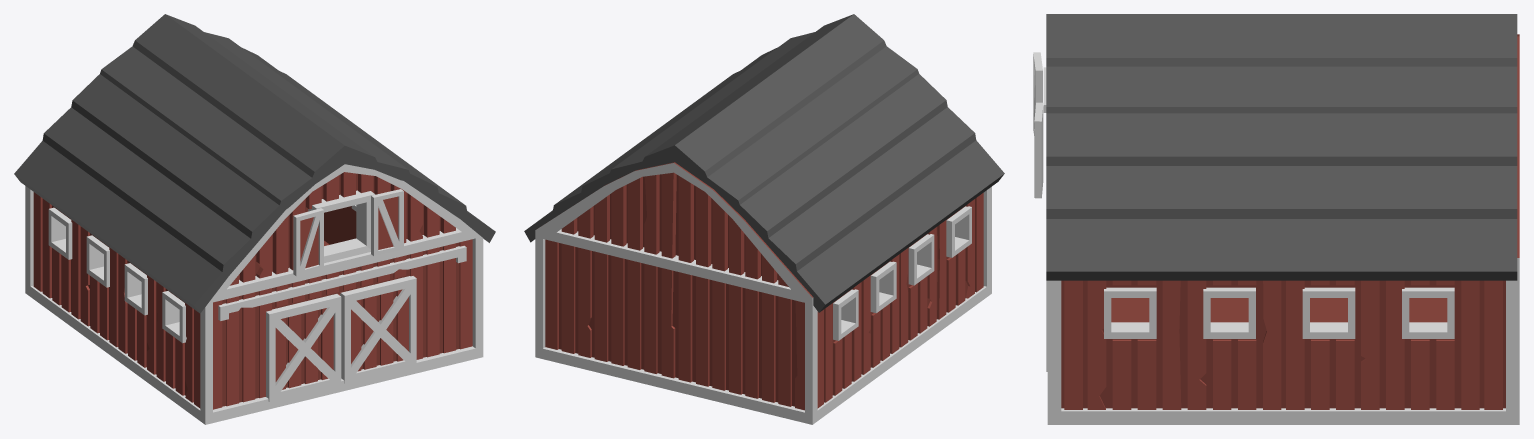
File: Barn.glb
3 views of the same model, side by side, from view 1: azimuth 30°, elevation 25°; view 2: azimuth 150°, elevation 25°; view 3: azimuth 270°, elevation 25° (orthographic). The views are drawn at different scales.
Parts seen in each view (by area): view 1: Barn, Barn_Door, Barn_Door2, Barn_Window, Barn_Window2; view 2: Barn; view 3: Barn, Barn_Window, Barn_Window2.
Boxes of the visible parts, <box> form: Barn: <box>14,14,495,424</box>; Barn_Door: <box>340,276,416,383</box>; Barn_Door2: <box>266,294,341,401</box>; Barn_Window: <box>371,189,403,256</box>; Barn_Window2: <box>293,208,323,276</box>; Barn: <box>524,14,1004,424</box>; Barn: <box>1043,14,1519,424</box>; Barn_Window: <box>1034,102,1043,198</box>; Barn_Window2: <box>1033,52,1042,135</box>.
Bounding box in the file's own units: 7.73 × 6.01 × 8.22.
